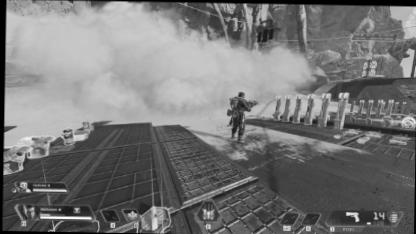Target: (229, 88, 247, 140)
